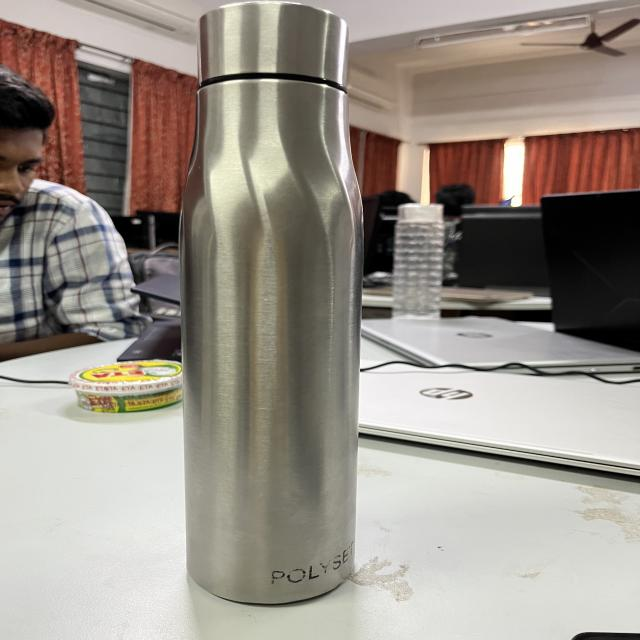L3: (179, 0, 358, 608)
